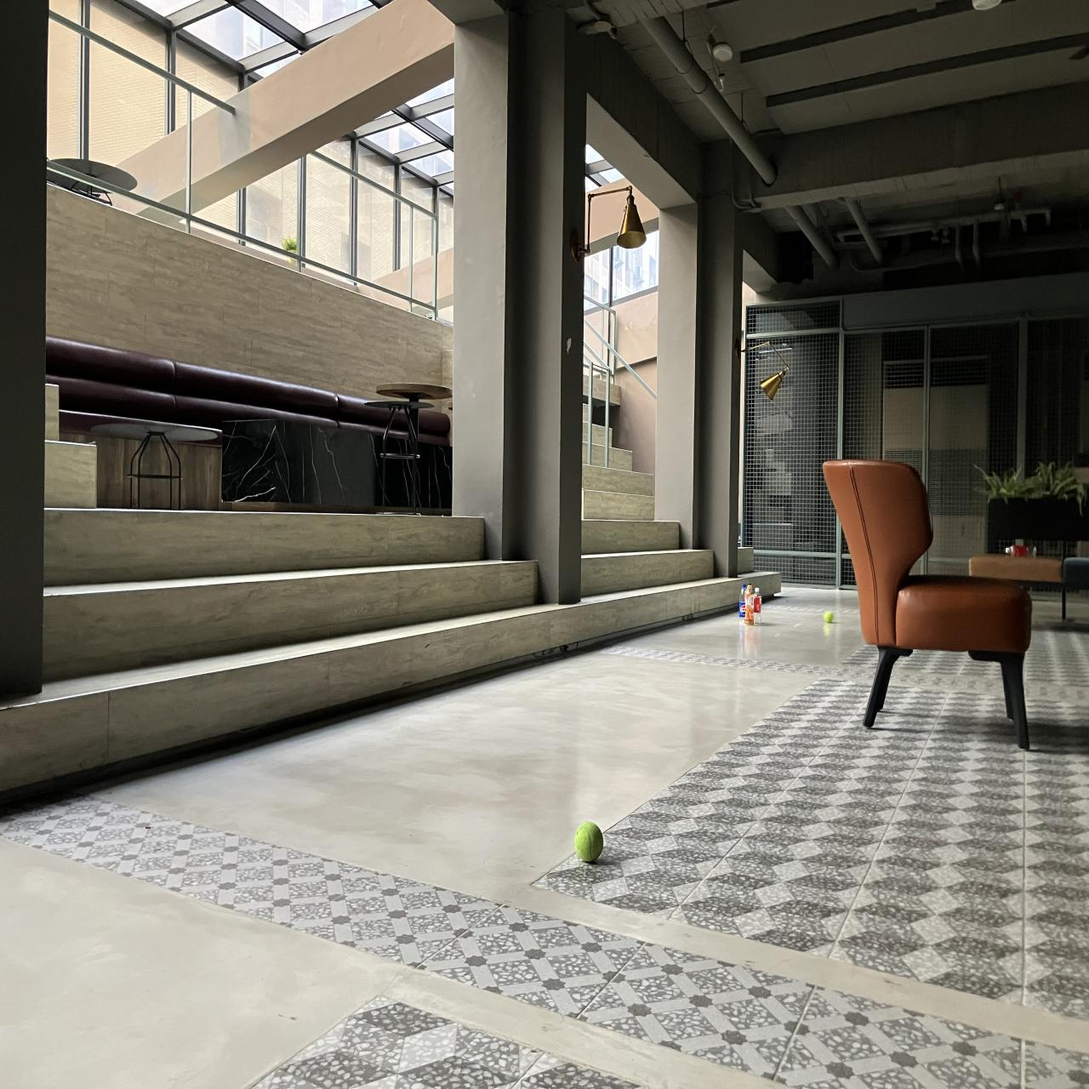plastic-bottle: (744, 584, 754, 624), (739, 584, 748, 619), (754, 587, 761, 624), (746, 583, 753, 619)
tennisball: (574, 822, 603, 862), (824, 611, 834, 624)
